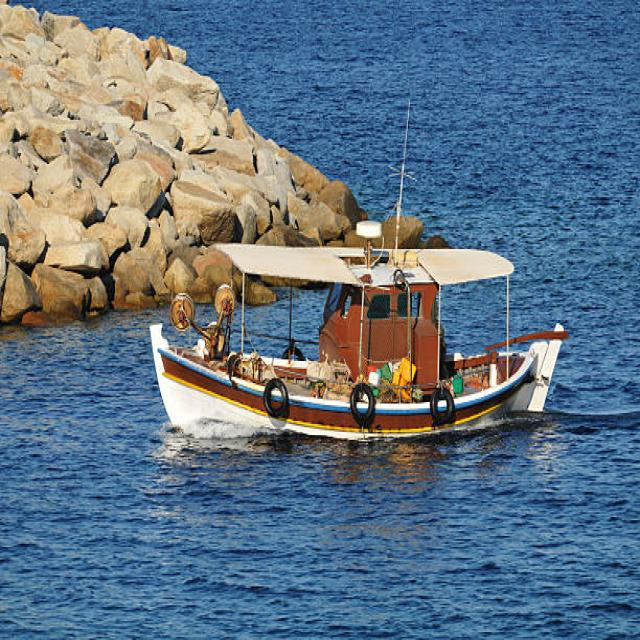Fishing Boat: (47, 190, 517, 360)
